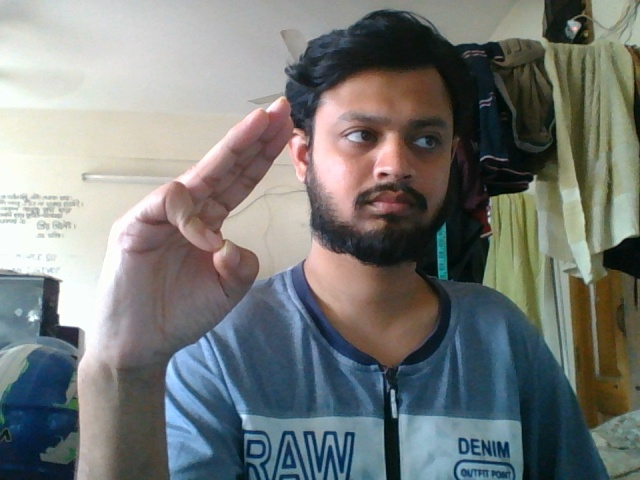ma: (102, 91, 296, 406)
